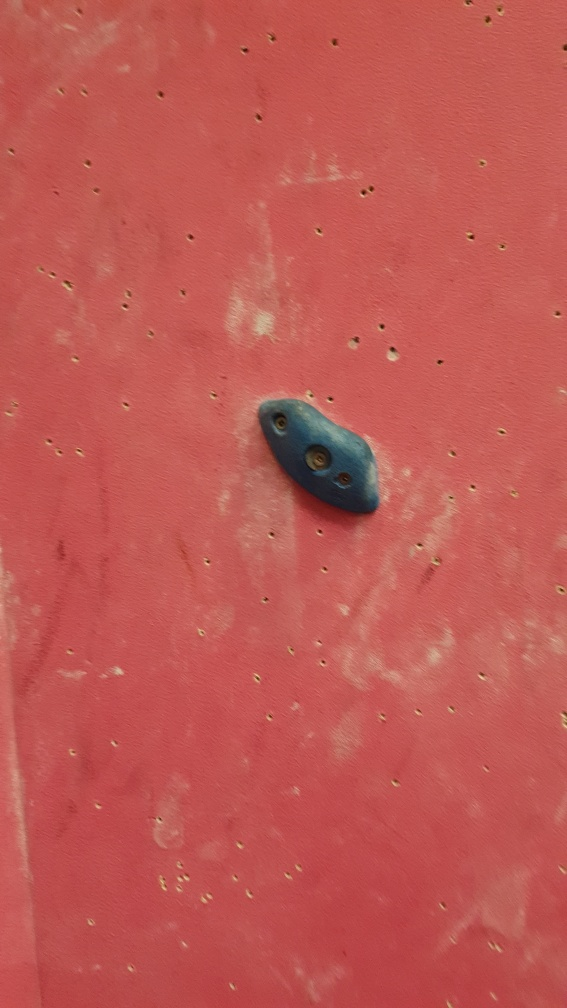Crimp: (252, 395, 391, 516)
